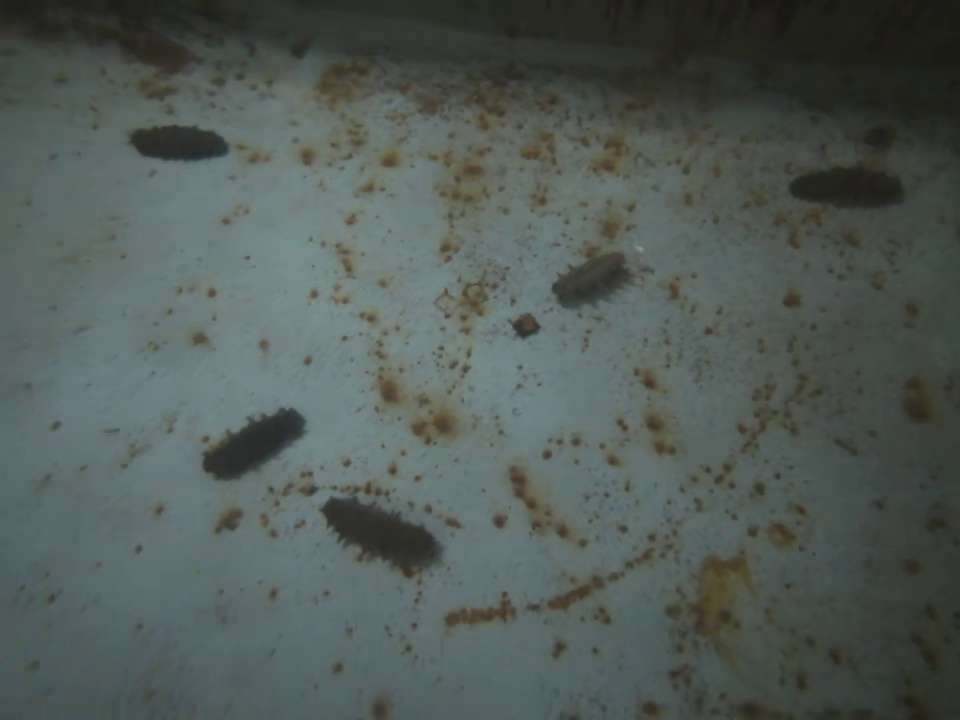seacucumber: (318, 493, 441, 568), (199, 403, 311, 480), (783, 161, 910, 213), (128, 124, 238, 164), (551, 252, 630, 303)
